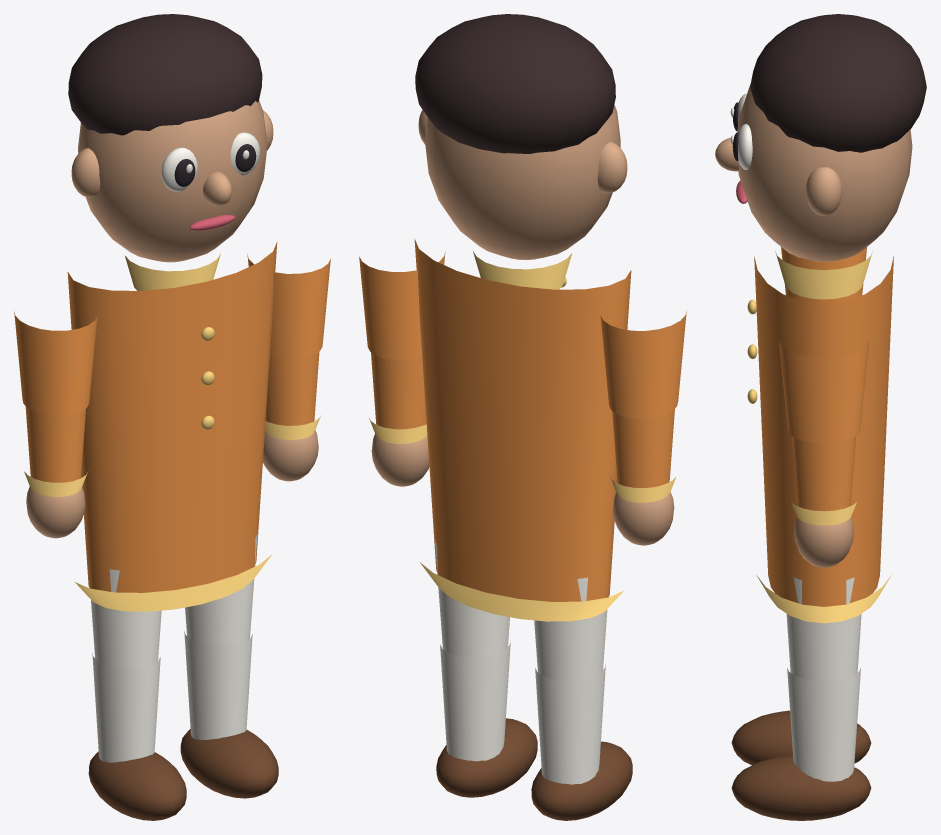
The model's file is amber-kurta.glb.
The picture shows the model from 3 angles, left to right: view 1: azimuth 30°, elevation 25°; view 2: azimuth 150°, elevation 25°; view 3: azimuth 270°, elevation 25°; orthographic projection. The views are drawn at different scales.
Parts seen in each view (by area): view 1: Kurta, Hair, Head, Shin (×2), Sleeve (×2), Jutti (×2), Thigh (×2), Forearm (×2), Hand (×2), Hem, Collar, Cuff (×2) (+3 smaller); view 2: Kurta, Hair, Head, Shin (×2), Sleeve (×2), Jutti (×2), Thigh (×2), Forearm (×2), Hand (×2), Hem, Collar, Cuff (×2) (+1 smaller); view 3: Kurta, Hair, Head, Jutti (×2), Sleeve (×2), Shin, Thigh, Forearm, Collar, Hand, Hem, Ear (+3 smaller).
Part boxes in pixels (bbox=[...]): Kurta: bbox=[67, 242, 277, 592]; Hair: bbox=[68, 14, 262, 135]; Head: bbox=[78, 100, 266, 262]; Shin (×2): bbox=[92, 631, 252, 762]; Sleeve (×2): bbox=[14, 255, 330, 415]; Jutti (×2): bbox=[88, 729, 278, 820]; Thigh (×2): bbox=[91, 534, 257, 668]; Forearm (×2): bbox=[25, 351, 319, 482]; Hand (×2): bbox=[26, 430, 318, 538]; Hem: bbox=[75, 554, 272, 611]; Collar: bbox=[125, 253, 220, 290]; Cuff (×2): bbox=[24, 416, 320, 496]; Kurta: bbox=[414, 239, 631, 601]; Hair: bbox=[415, 14, 615, 153]; Head: bbox=[425, 104, 620, 260]; Shin (×2): bbox=[440, 640, 605, 784]; Sleeve (×2): bbox=[359, 252, 686, 418]; Jutti (×2): bbox=[436, 718, 632, 820]; Thigh (×2): bbox=[435, 541, 607, 680]; Forearm (×2): bbox=[371, 352, 674, 487]; Hand (×2): bbox=[371, 434, 674, 545]; Hem: bbox=[420, 562, 624, 621]; Collar: bbox=[473, 251, 572, 289]; Cuff (×2): bbox=[369, 418, 675, 502]; Kurta: bbox=[754, 256, 893, 606]; Hair: bbox=[750, 14, 926, 152]; Head: bbox=[737, 84, 912, 261]; Jutti (×2): bbox=[731, 710, 871, 820]; Sleeve (×2): bbox=[779, 247, 869, 443]; Shin: bbox=[787, 667, 860, 781]; Thigh: bbox=[786, 577, 861, 681]; Forearm: bbox=[792, 436, 856, 511]; Collar: bbox=[775, 251, 872, 299]; Hand: bbox=[794, 518, 853, 567]; Hem: bbox=[756, 575, 891, 623]; Ear: bbox=[805, 167, 842, 215].
Size of the model in its own units: 0.86 by 2.05 by 0.515.
